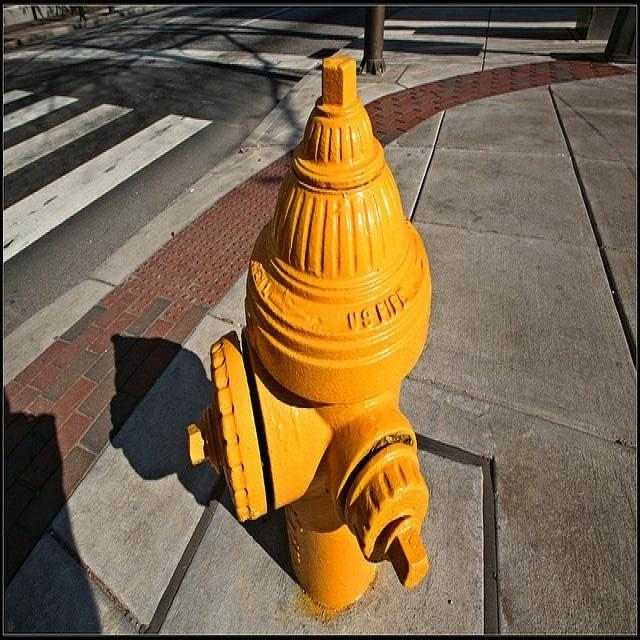fire_hydrant: (214, 16, 442, 640)
